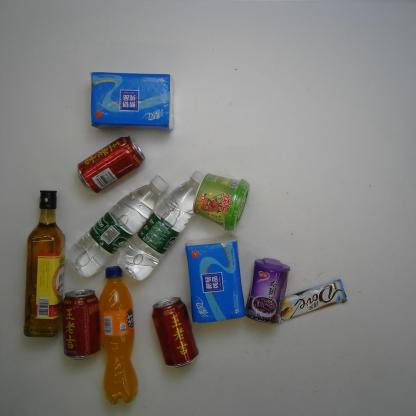Canned Food: (245, 256, 291, 325)
Chocolate: (276, 279, 349, 325)
Drink: (66, 172, 170, 278), (115, 168, 206, 284), (98, 265, 140, 408), (76, 135, 147, 195), (150, 295, 200, 368), (61, 288, 101, 360)
Instant Drink: (192, 173, 250, 231)
Seasoner: (21, 189, 67, 338)
Tissue: (182, 234, 246, 324), (89, 71, 176, 131)
